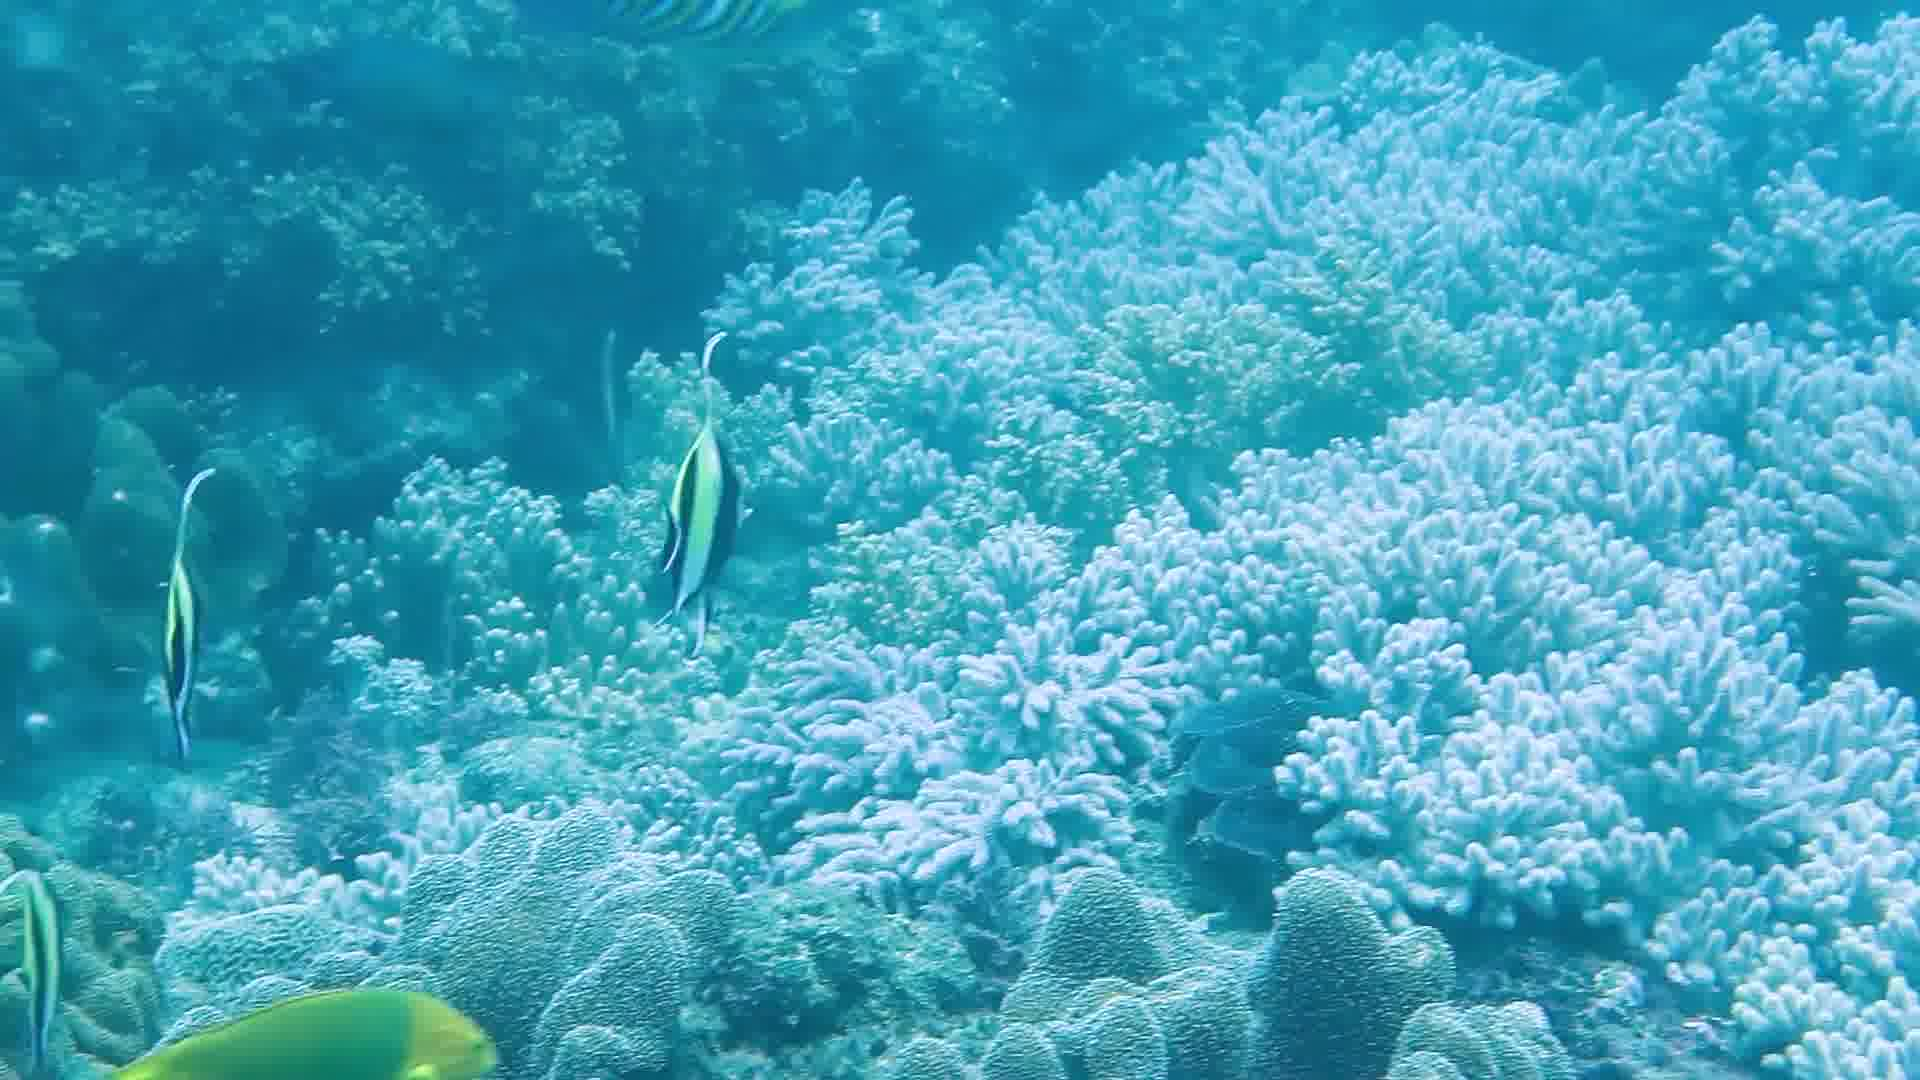Zanclus cornutus: (600, 393, 762, 646), (113, 498, 237, 750), (11, 819, 53, 1065)
